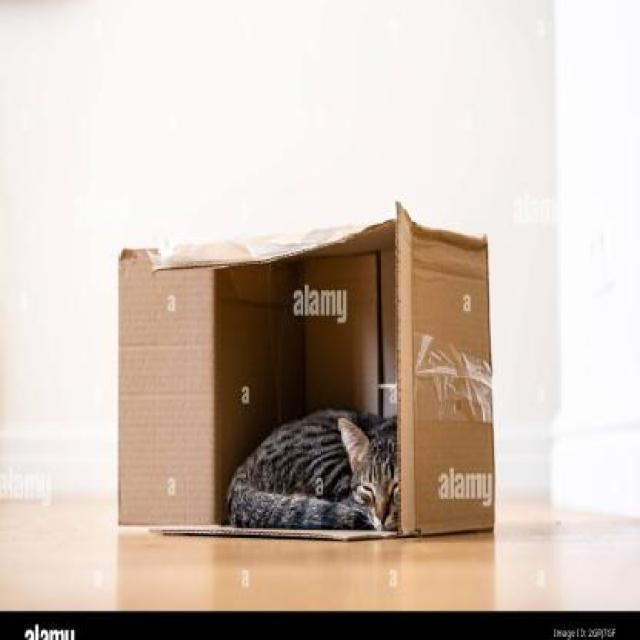box: (105, 223, 522, 550)
